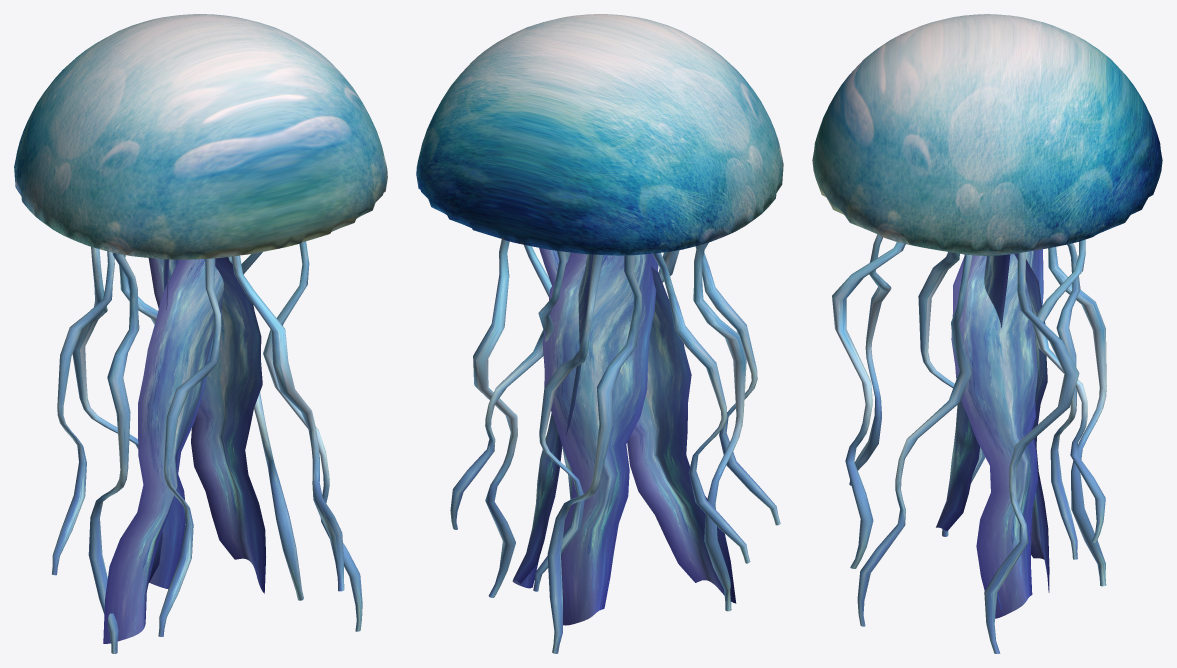
Rendered from jellyfish.glb.
3 renders of one model, left to right at view 1: azimuth 30°, elevation 25°; view 2: azimuth 150°, elevation 25°; view 3: azimuth 270°, elevation 25°, orthographic. The views are drawn at different scales.
Parts seen in each view (by area): view 1: Object_2, Object_4, Object_3, Object_9, Object_7, Object_10, Object_8; view 2: Object_2, Object_3, Object_4, Object_8, Object_9, Object_7, Object_10; view 3: Object_2, Object_3, Object_8, Object_9, Object_7, Object_4.
Boxes of the visible parts, box(x1,y1,x2,y2) form: Object_2: box(14, 14, 387, 259); Object_4: box(103, 256, 232, 643); Object_3: box(148, 257, 265, 593); Object_9: box(72, 247, 344, 636); Object_7: box(88, 241, 362, 653); Object_10: box(52, 251, 114, 575); Object_8: box(119, 252, 303, 600); Object_2: box(416, 14, 783, 255); Object_3: box(512, 252, 658, 625); Object_4: box(539, 248, 736, 603); Object_8: box(450, 239, 603, 597); Object_9: box(547, 245, 780, 653); Object_7: box(524, 242, 746, 611); Object_10: box(652, 253, 750, 563); Object_2: box(812, 14, 1162, 255); Object_3: box(951, 249, 1049, 618); Object_8: box(984, 239, 1105, 653); Object_9: box(832, 234, 1106, 586); Object_7: box(857, 252, 985, 626); Object_4: box(936, 254, 1010, 531).
Bounding box in the file's own units: 5.79 × 10.3 × 5.72.
Materials: 4 (3 with a texture image).
